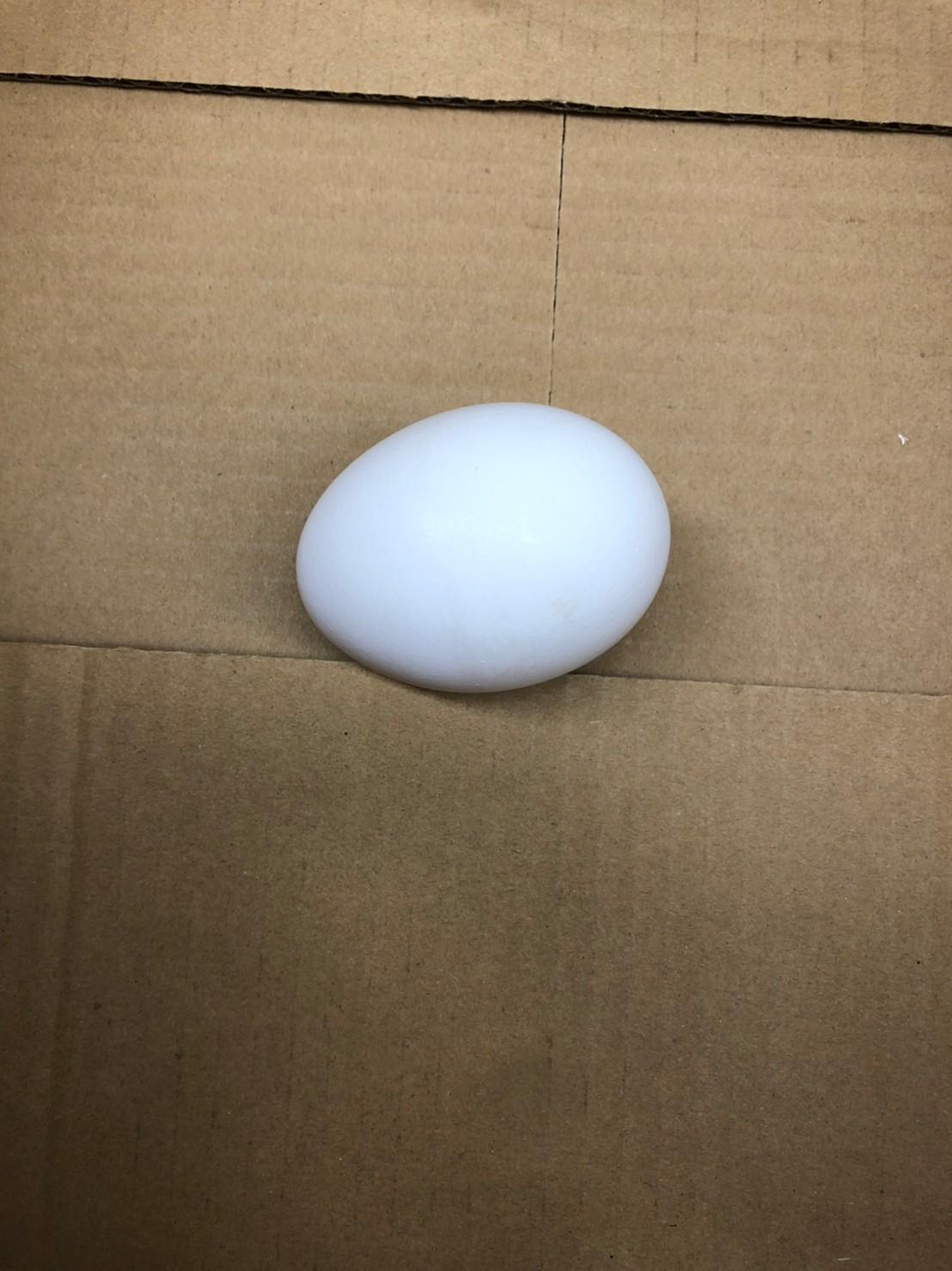egg: (285, 393, 674, 708)
